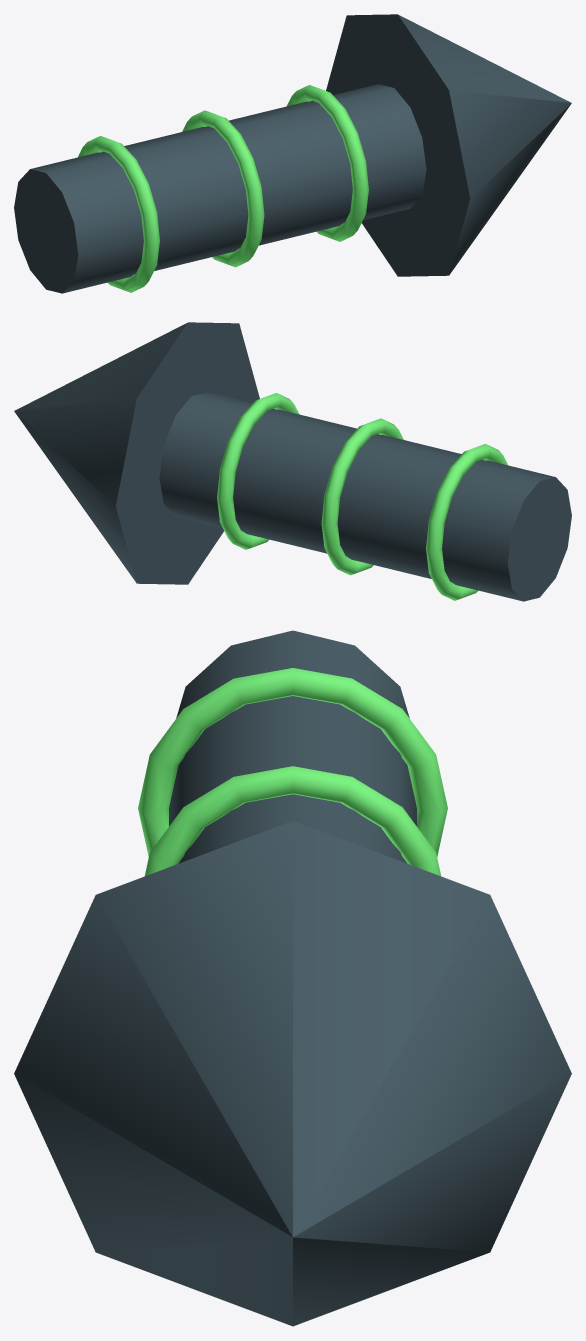
The model's file is cil-arrow-right.glb.
3 views of the same model, one above another, from view 1: azimuth 30°, elevation 25°; view 2: azimuth 150°, elevation 25°; view 3: azimuth 270°, elevation 25° (orthographic). The views are drawn at different scales.
Bounding box in the file's own units: 0.755 × 0.36 × 0.36.
